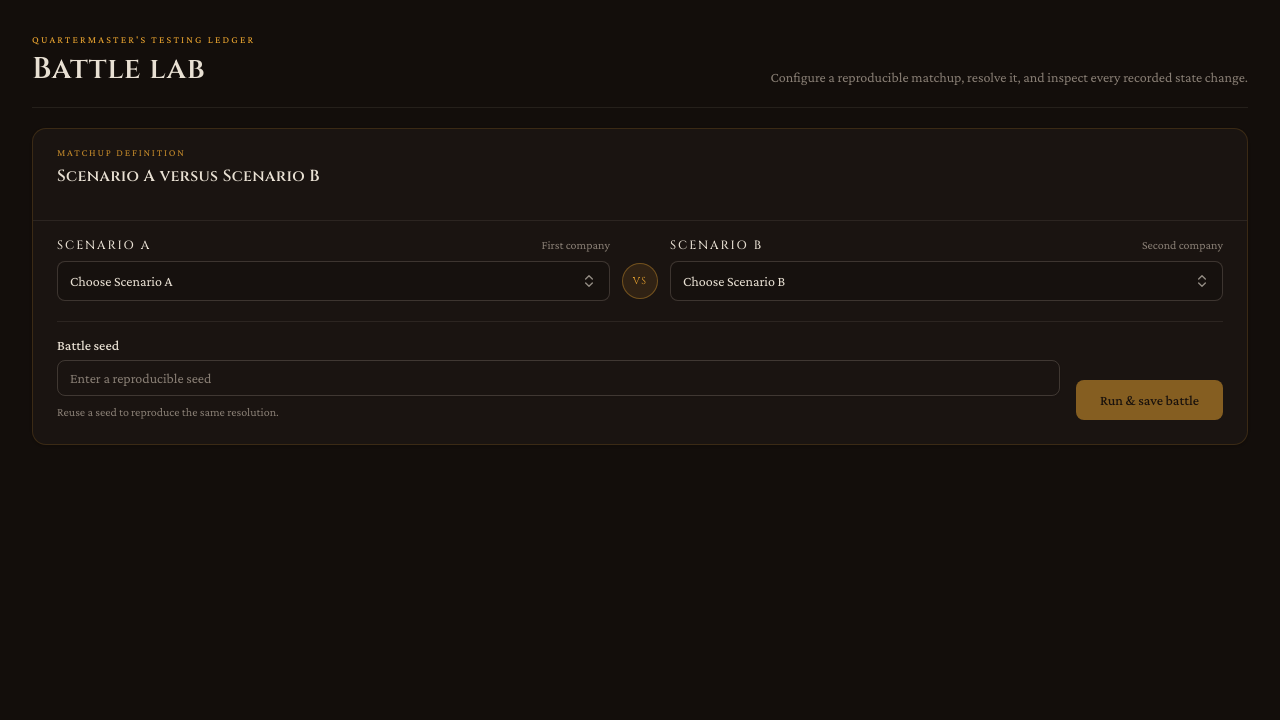
Scenario: BattleWorkbench › keeps the selected setup visible when replay creation fails
Click the dropdown labelled "Scenario A" at (121, 281), box [57,261,610,301]
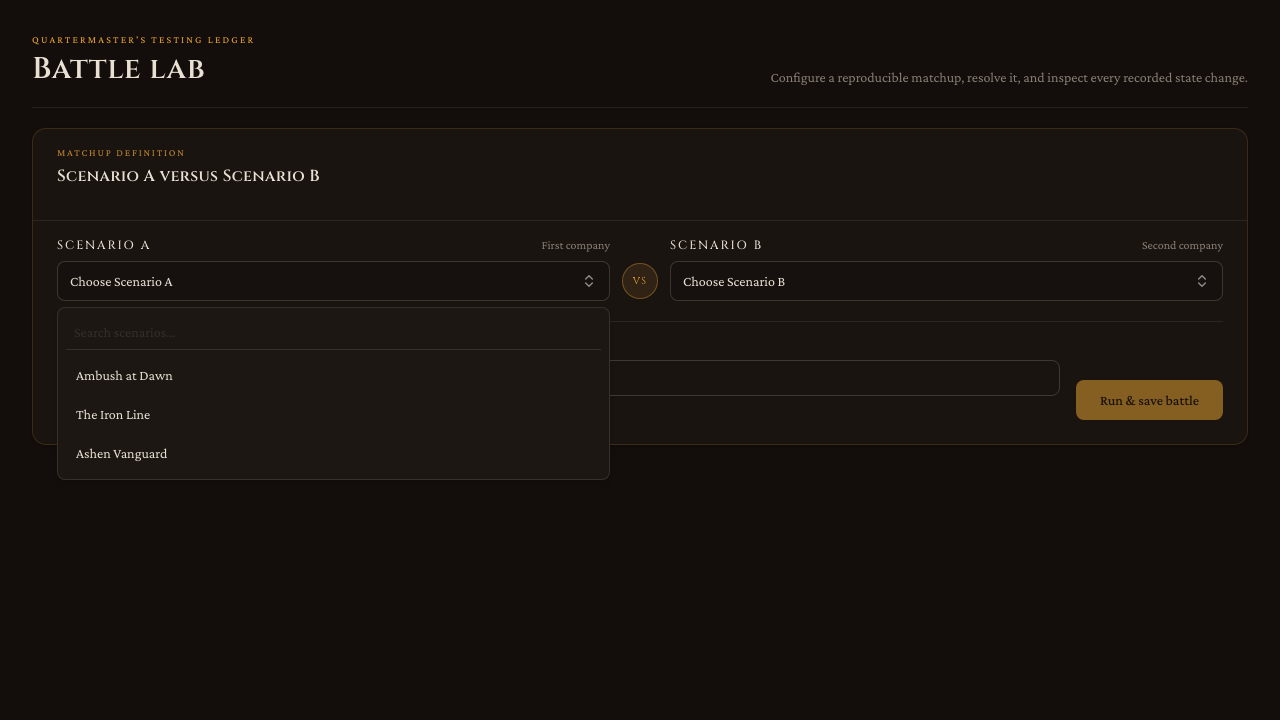
Click the option "Ambush at Dawn" at (124, 375), box [66,358,601,393]
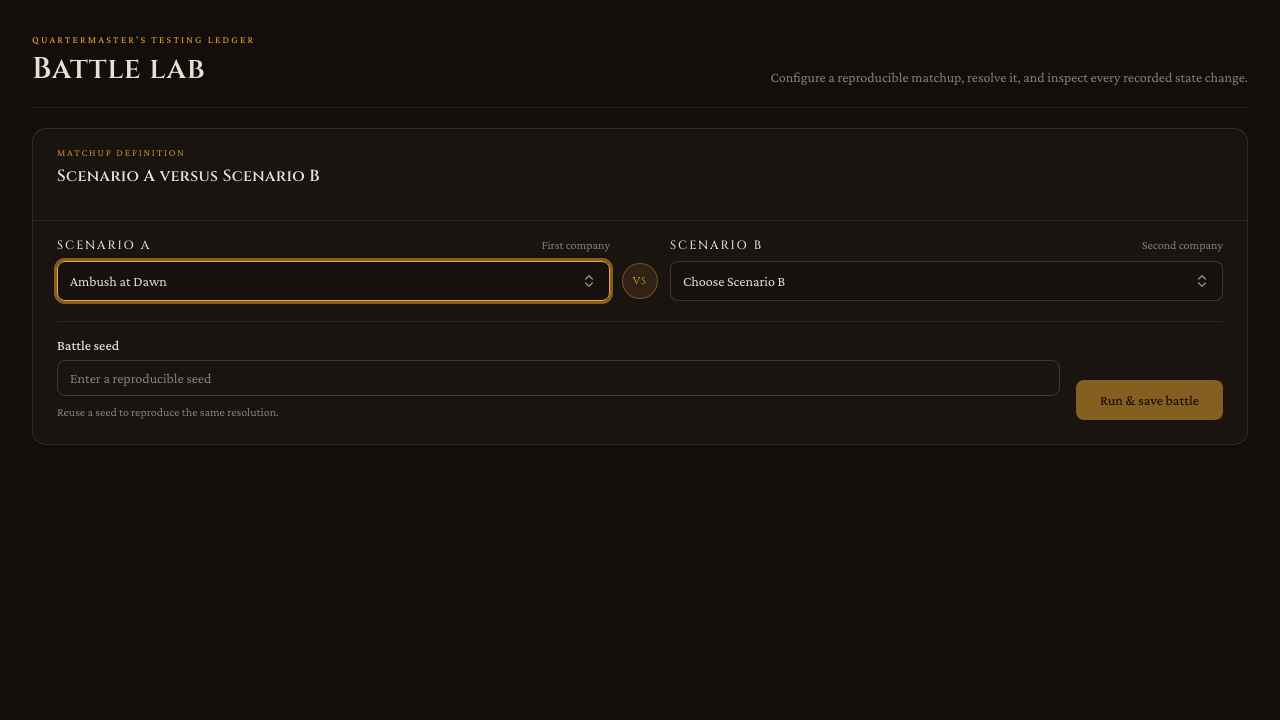
Click the dropdown labelled "Scenario B" at (734, 281), box [670,261,1223,301]
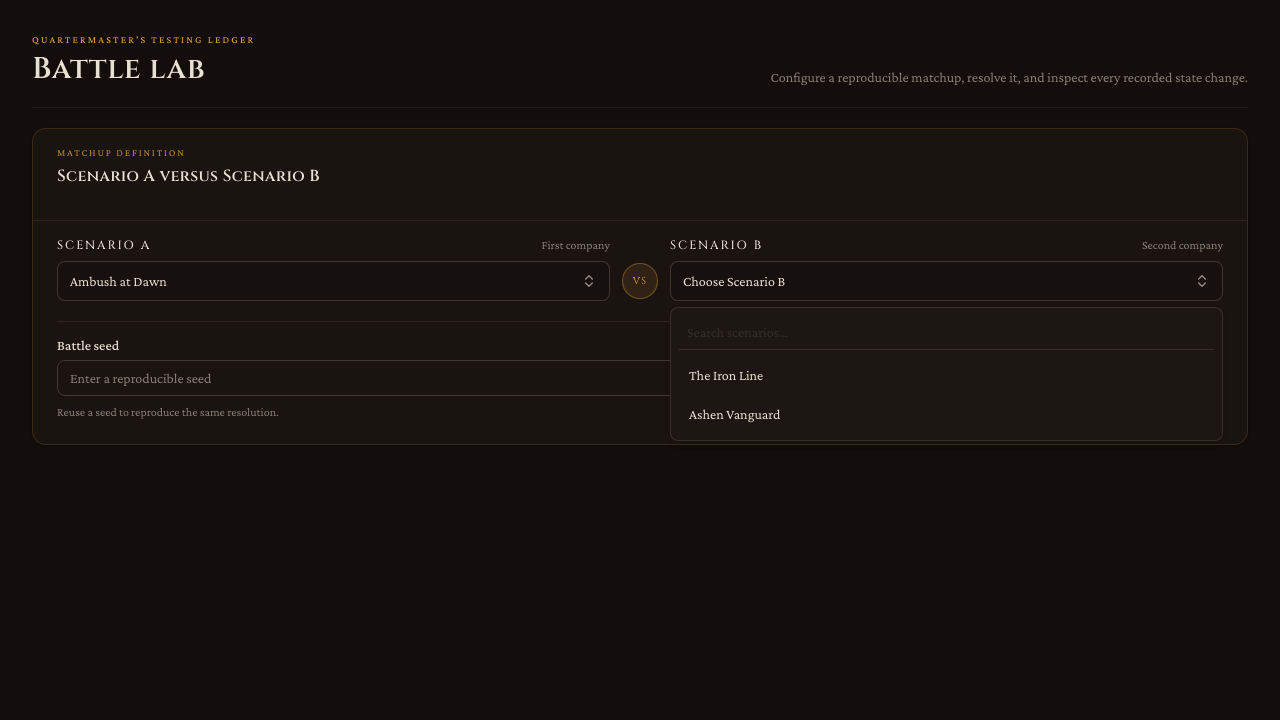
Click the option "The Iron Line" at (726, 375), box [679,358,1214,393]
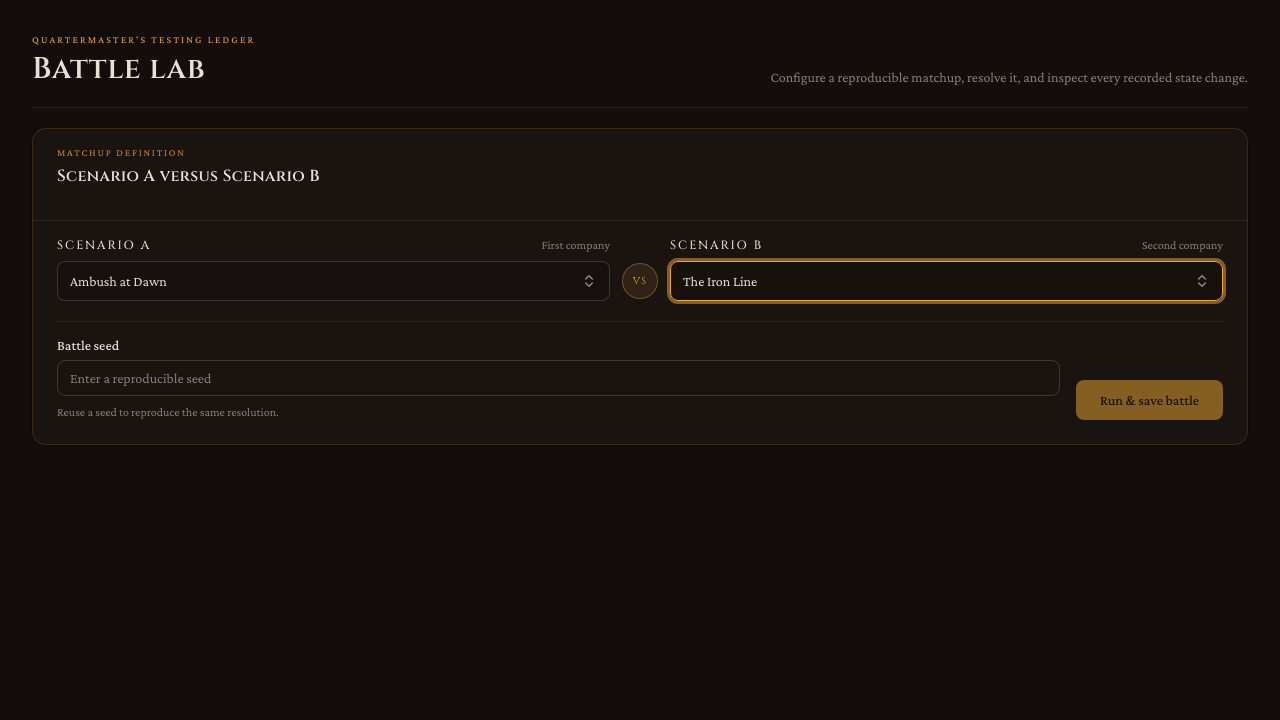
Type "  fixed-seed  " into the field labelled "Battle seed" at (558, 378), box [57,360,1060,396]
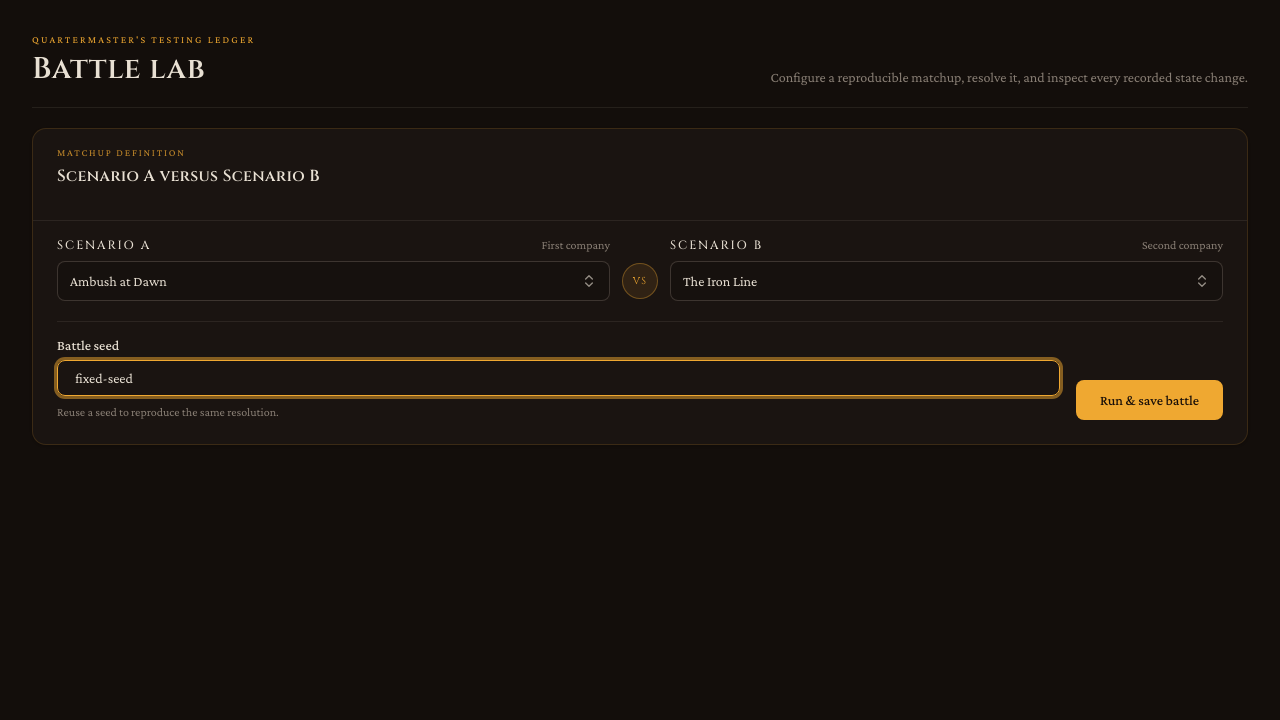
Click the button "Run & save battle" at (1149, 400), box [1076,380,1223,420]
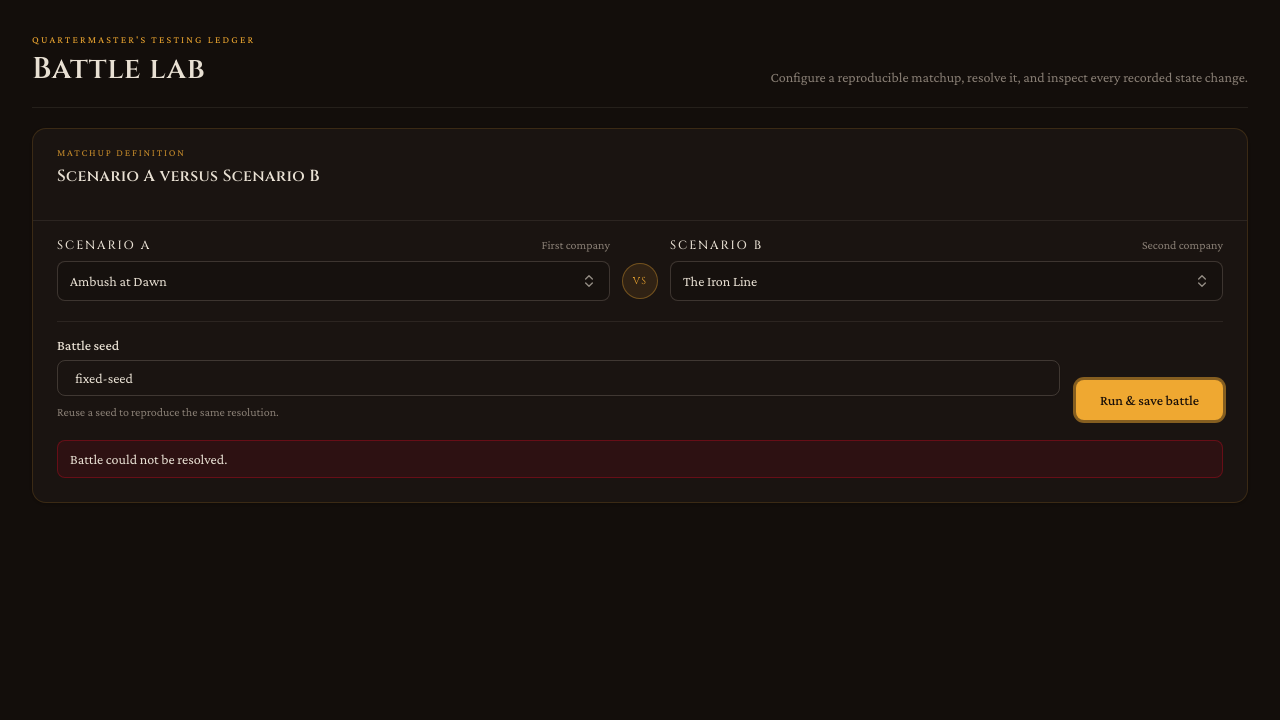
Expected: the dropdown named "Scenario A" reads "Ambush at Dawn", [57,261,610,301]
Expected: the dropdown named "Scenario B" reads "The Iron Line", [670,261,1223,301]
Expected: the message reads "Battle could not be resolved.", [70,451,227,467]
